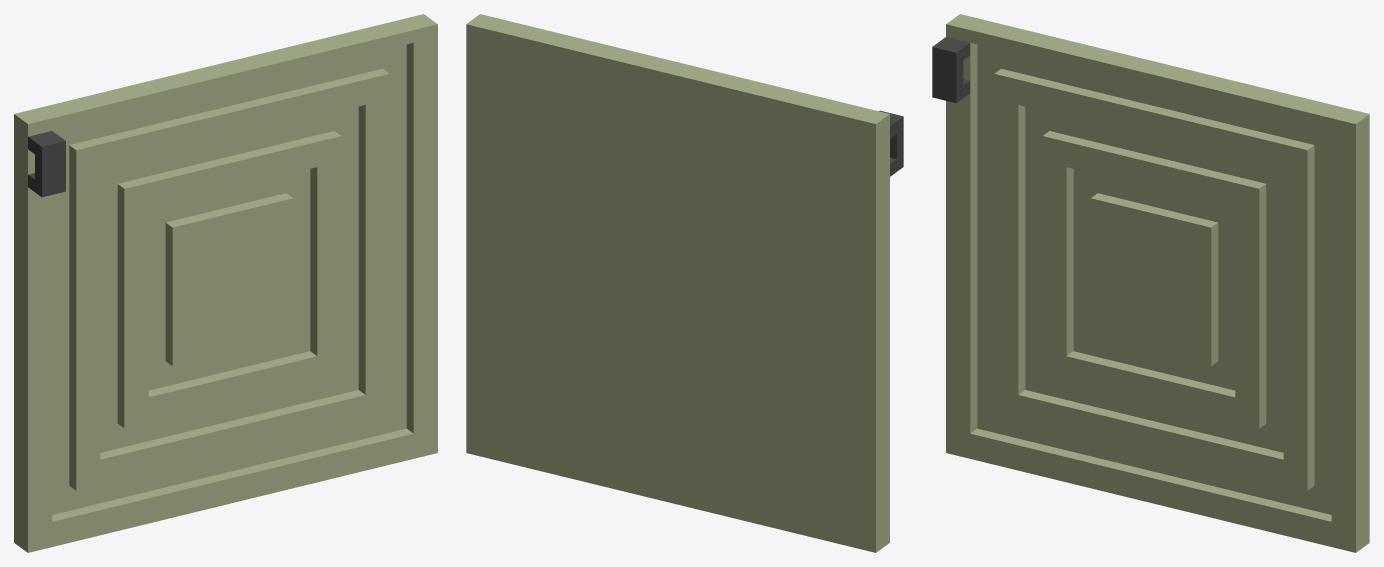
Rendered from shkaf-0.obj.
3 views of the same model, side by side, from view 1: azimuth 30°, elevation 25°; view 2: azimuth 150°, elevation 25°; view 3: azimuth 330°, elevation 25° (orthographic).
Bounding box in the file's own units: 3.4 × 3.4 × 0.4.
1 material, 1 textured.
